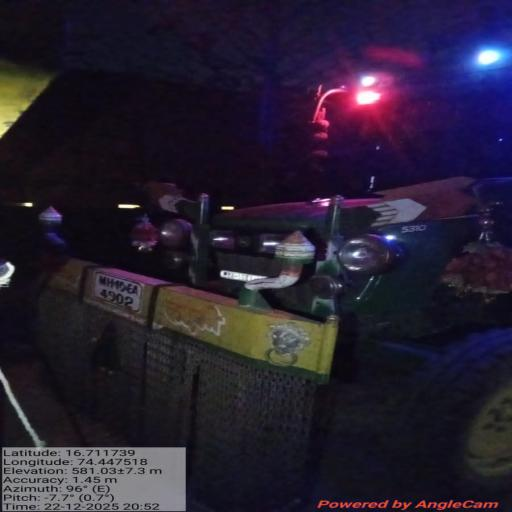number_plate: (91, 267, 162, 314)
